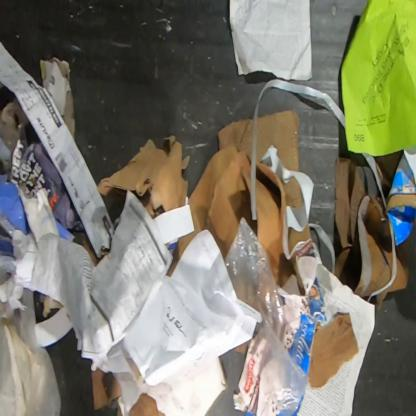cardboard: (166, 144, 296, 288), (218, 108, 311, 255), (97, 134, 190, 218), (308, 312, 358, 390), (293, 277, 327, 373), (90, 367, 122, 411), (129, 393, 165, 416)
soft_plastic: (224, 217, 309, 416), (0, 174, 28, 235), (55, 218, 75, 242)
